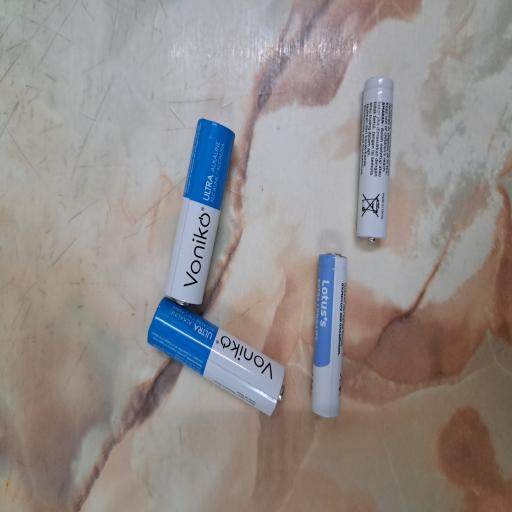battery: (71, 194, 162, 382), (154, 217, 296, 315), (69, 413, 196, 465), (201, 474, 328, 512)
